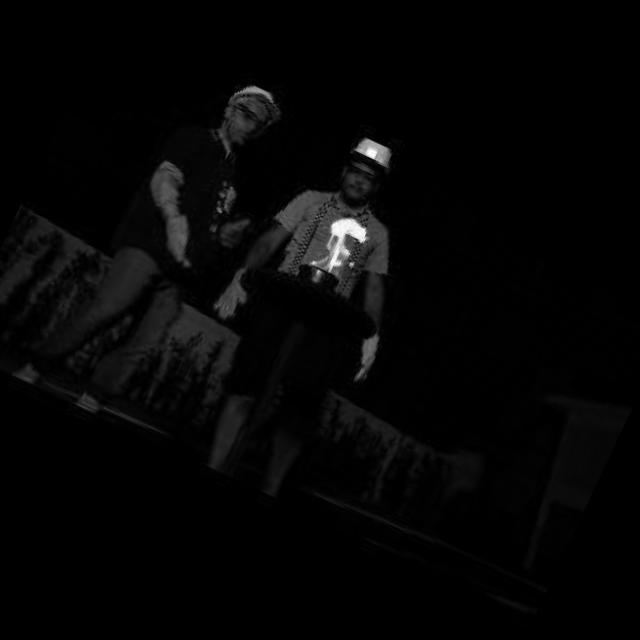fire: (299, 202, 386, 286)
